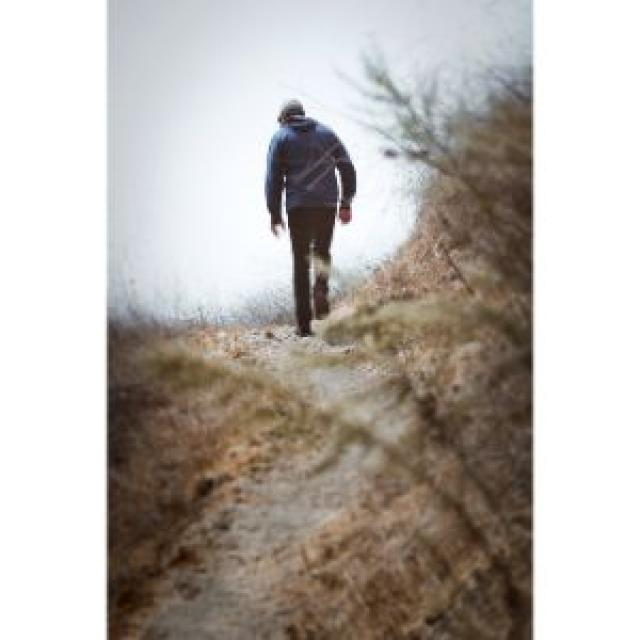nonfall: (255, 84, 372, 344)
